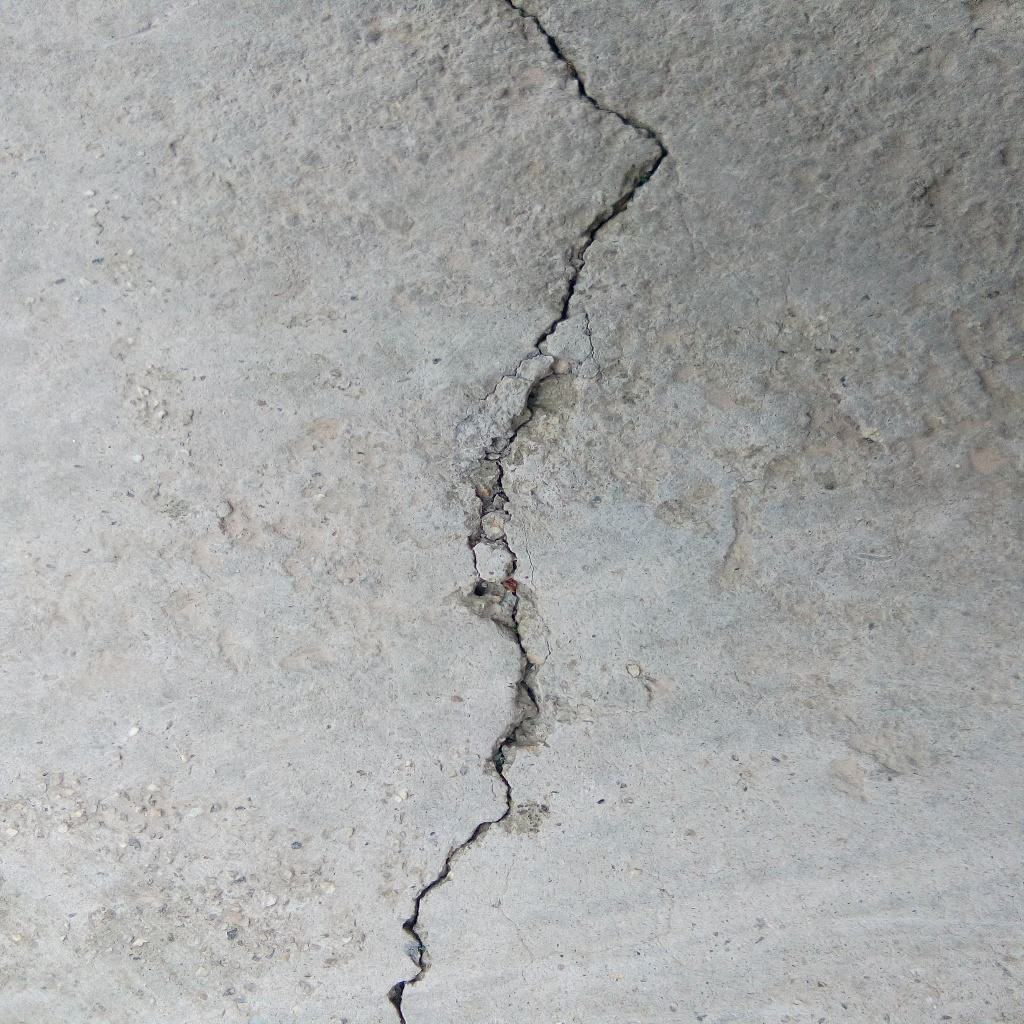Crack: (385, 1, 671, 1024)
